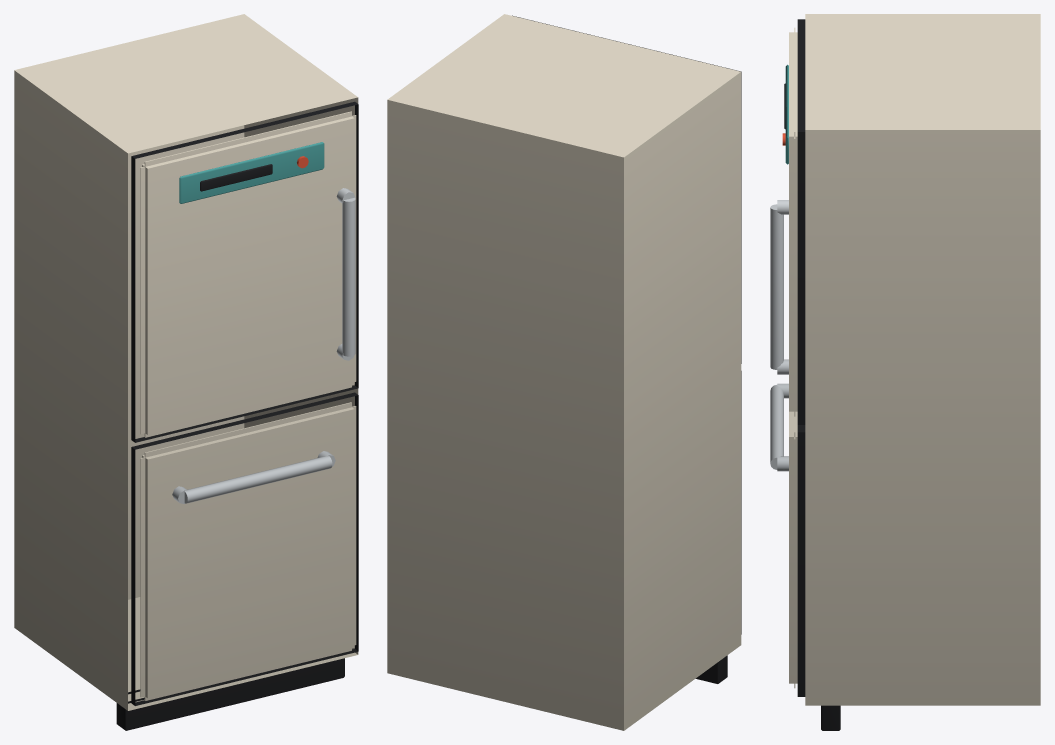
File: Freezer_Upright_01.glb
3 renders of one model, left to right at view 1: azimuth 30°, elevation 25°; view 2: azimuth 150°, elevation 25°; view 3: azimuth 270°, elevation 25°, orthographic. The views are drawn at different scales.
Parts seen in each view (by area): view 1: SM_Freezer_Upright_01; view 2: SM_Freezer_Upright_01; view 3: SM_Freezer_Upright_01.
Part boxes in pixels (x1,y1,x2,y2): SM_Freezer_Upright_01: (14, 14, 358, 730); SM_Freezer_Upright_01: (387, 14, 741, 730); SM_Freezer_Upright_01: (770, 14, 1040, 730).
Size of the model in its own units: 0.7 by 1.7 by 0.6895.
1 material, 1 textured.
